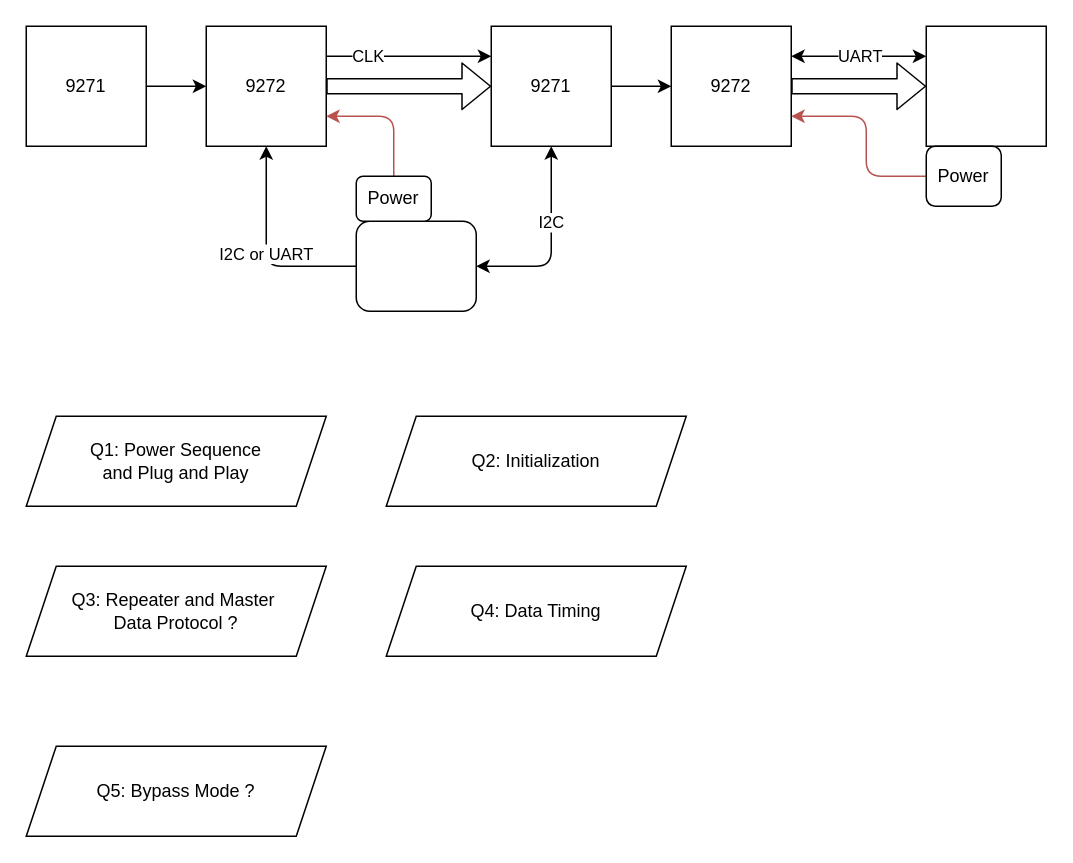
This 1073x863 diagram has some shape labels left out. Here are the shapes that lost their labels. From the top down, the centre of each, then its label:
At point (985, 85): "XILINX".
At point (415, 265): "MCU".
